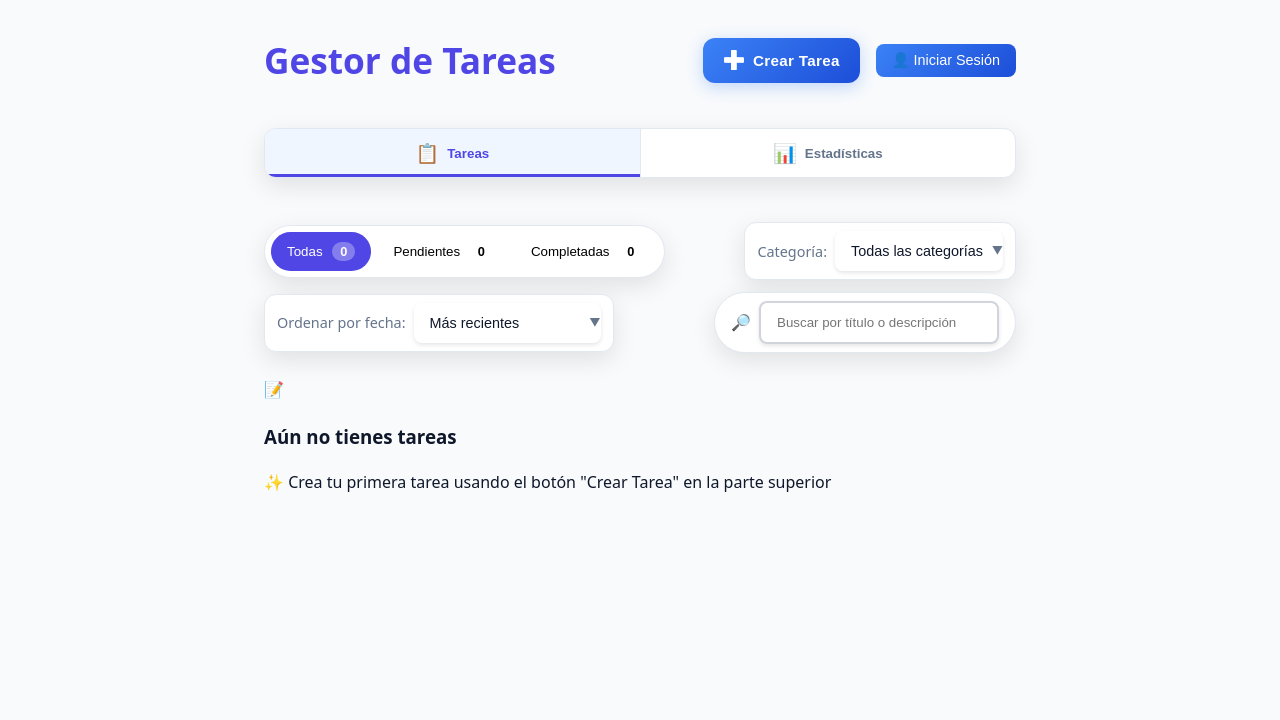
Test: Gestor de Tareas - App Principal › 1. Crear Tarea › debe crear una nueva tarea con título y descripción
The width and height of the screenshot is (1280, 720).
Abrir modal de nueva tarea
Click the button with aria-label "crear nueva tarea": (781, 60) [703,38,860,83]
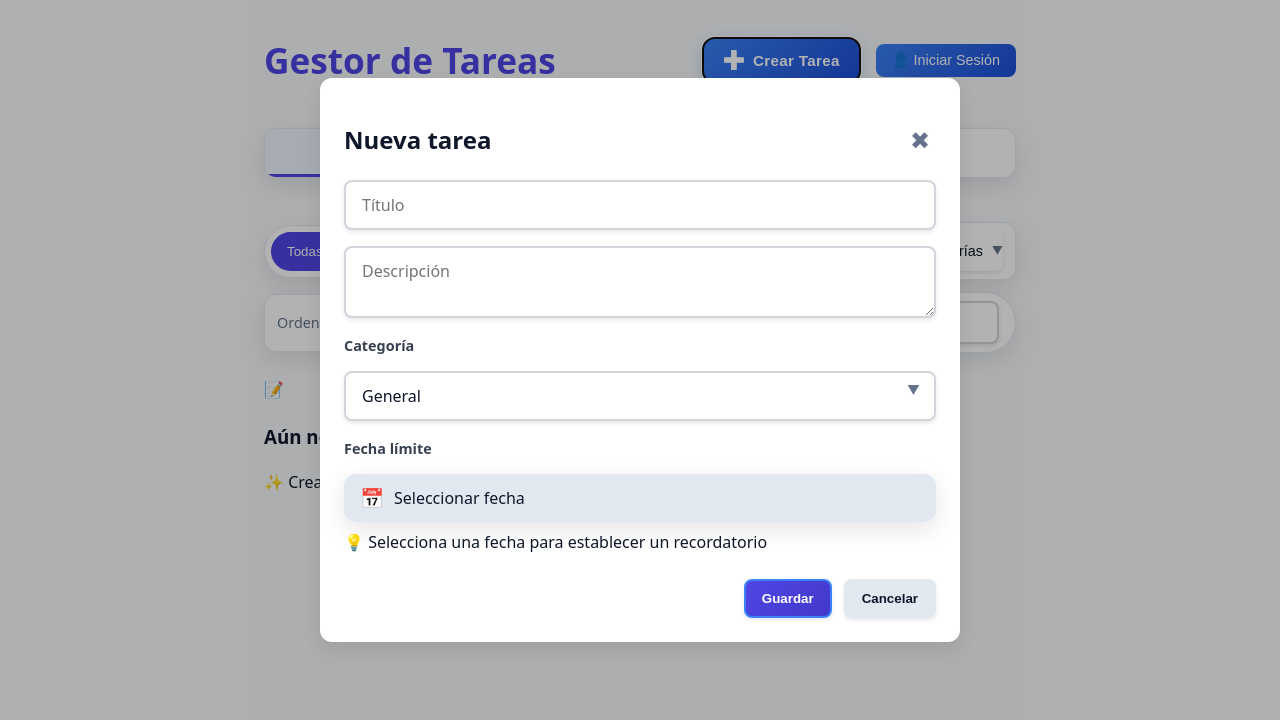
In the field with placeholder "Título": (640, 205) [344,180,936,230], type "Mi primera tarea"
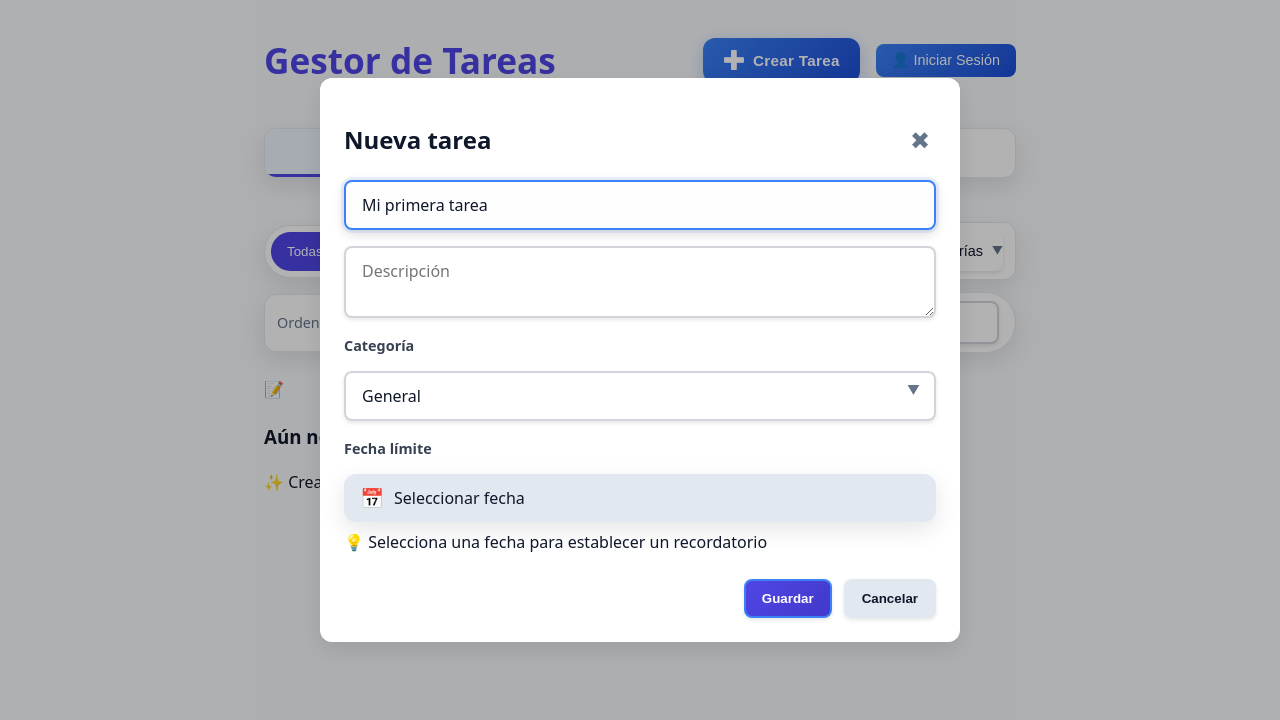
In the text box with placeholder "Descripción": (640, 282) [344,246,936,318], type "Esta es una descripción de prueba"
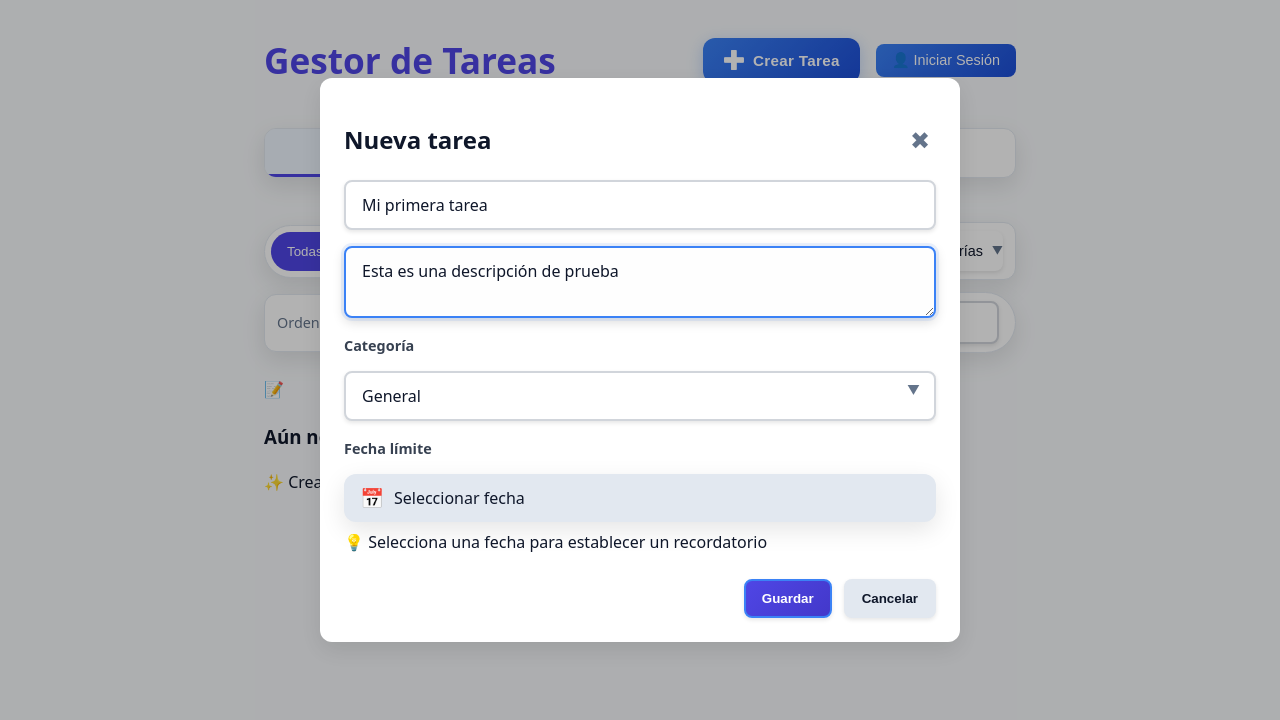
Click the button "Guardar": (788, 599) [744,579,832,618]
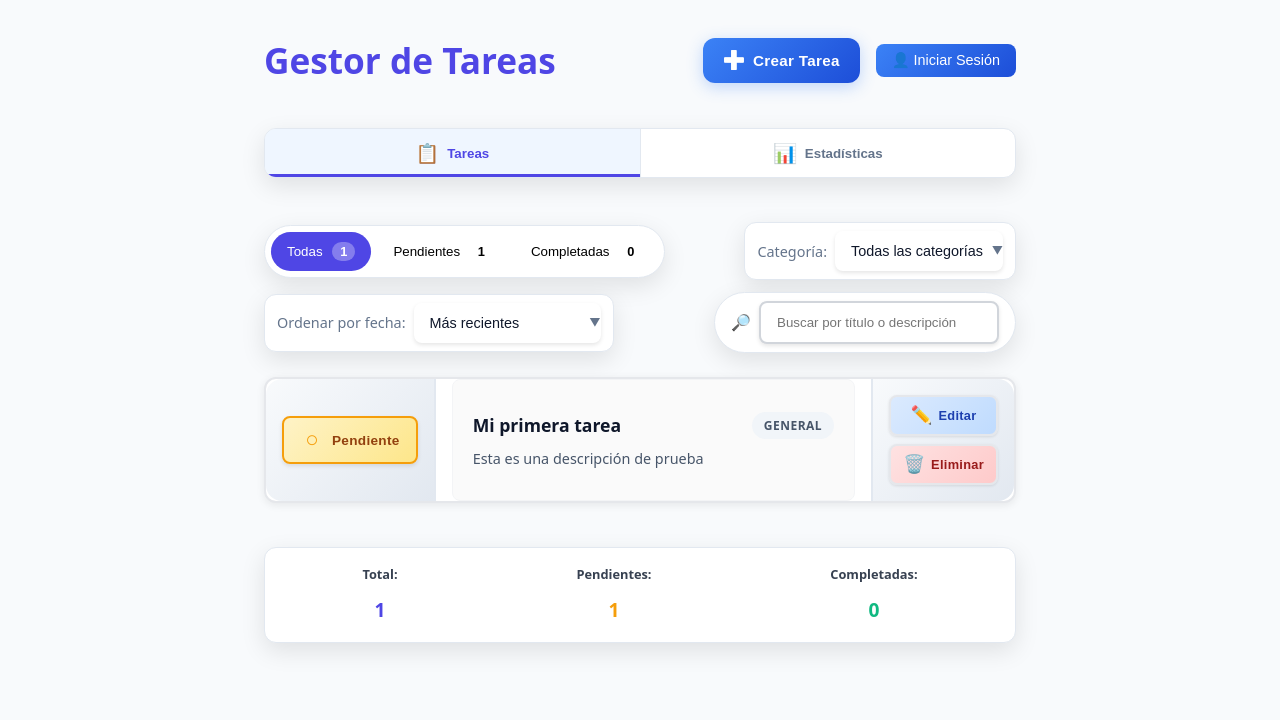
Expected: the heading "Mi primera tarea" is shown, [473,413,621,437]
Expected: the text "Esta es una descripción de prueba" is shown, [473,449,704,468]
